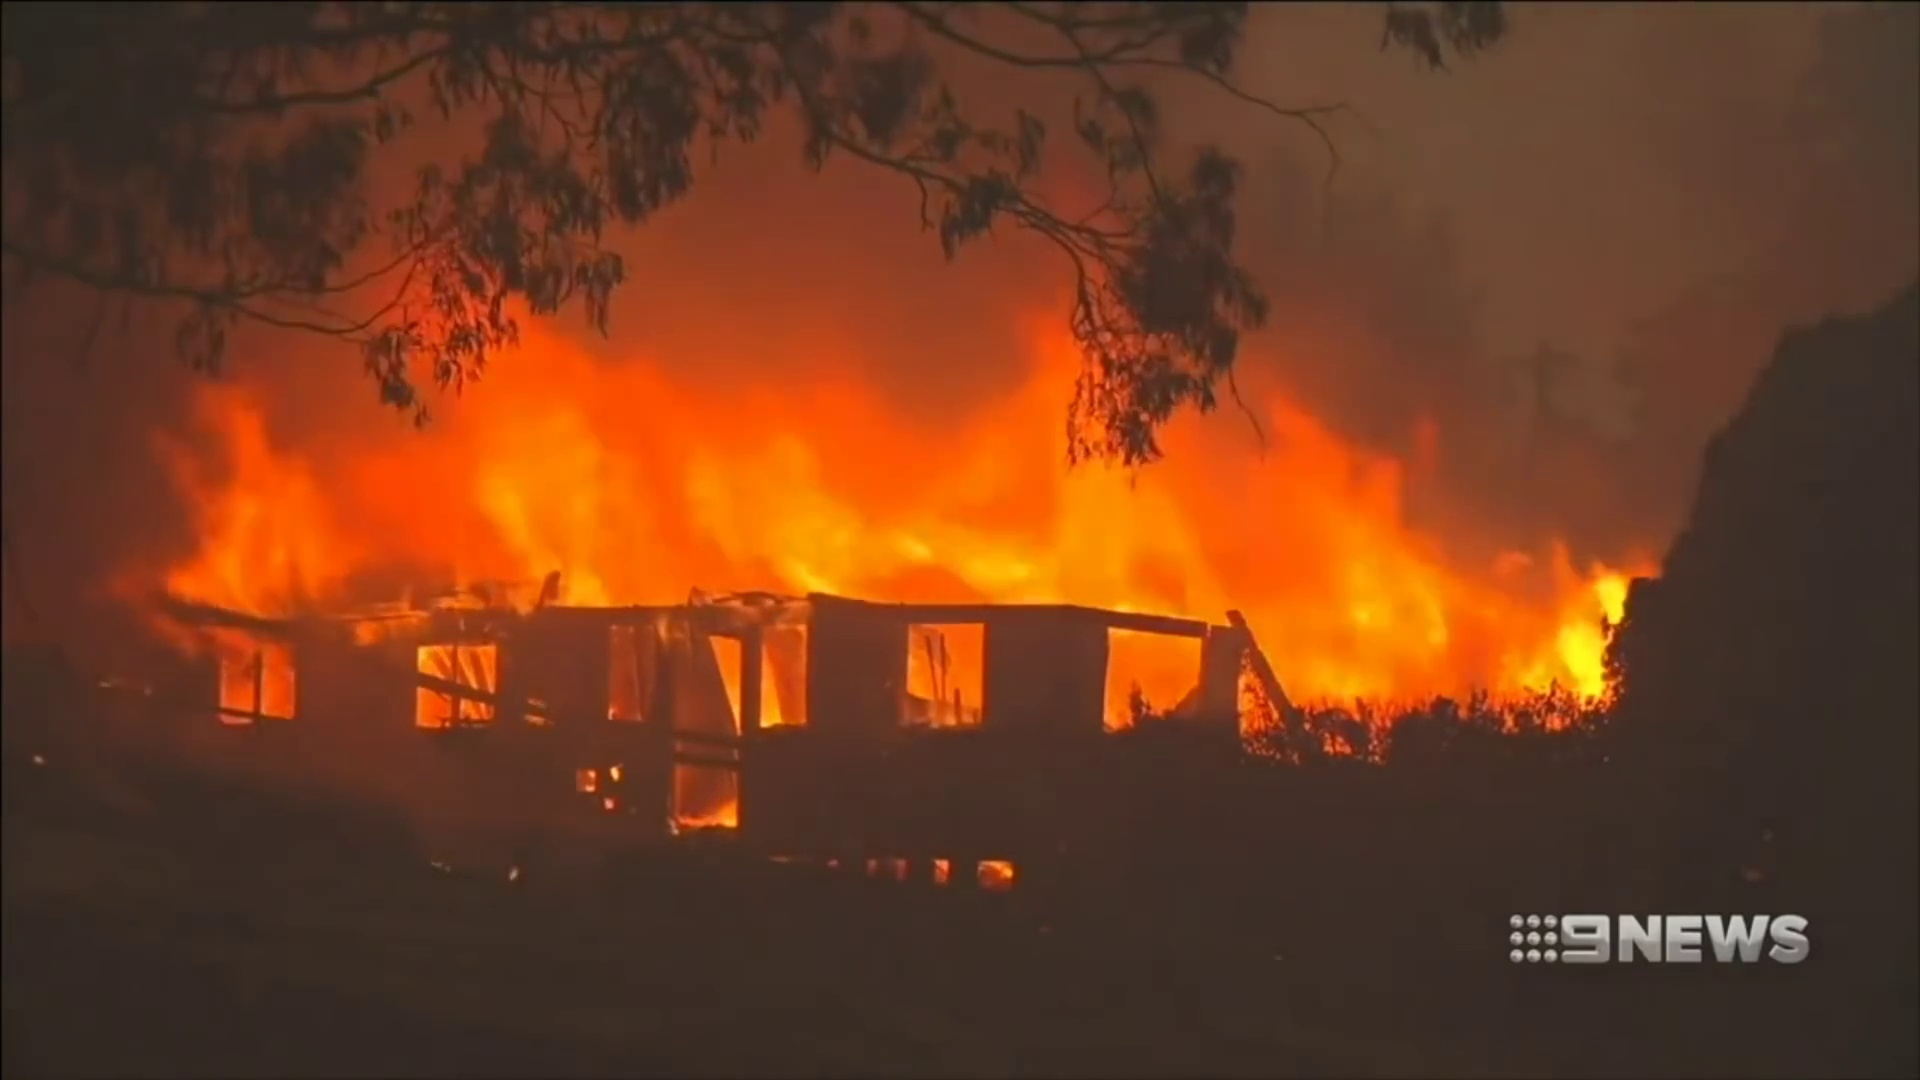fire: (195, 339, 1425, 611), (1545, 572, 1629, 713)
